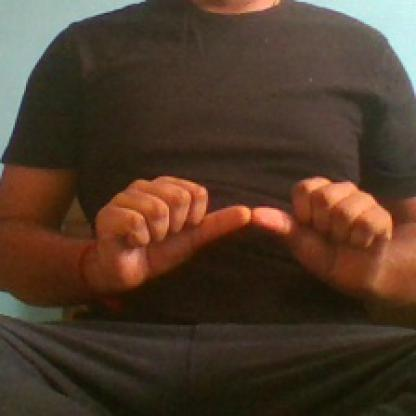A: (82, 166, 398, 312)
